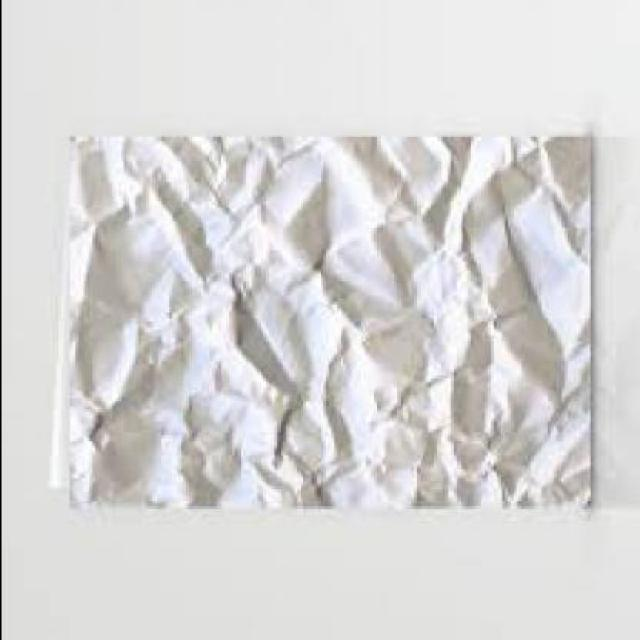PAPER: (46, 128, 592, 503)
